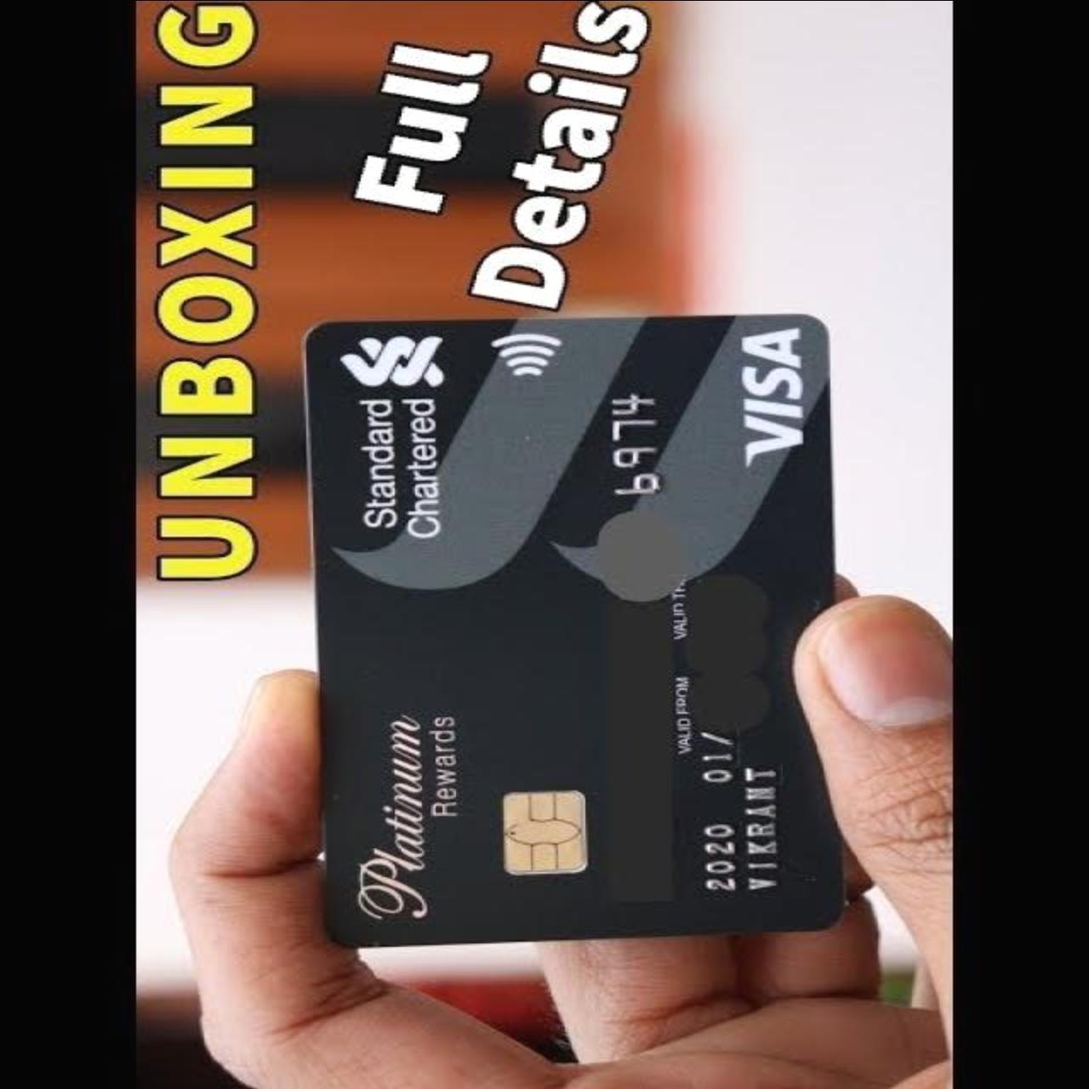credit_card: (306, 313, 844, 936)
